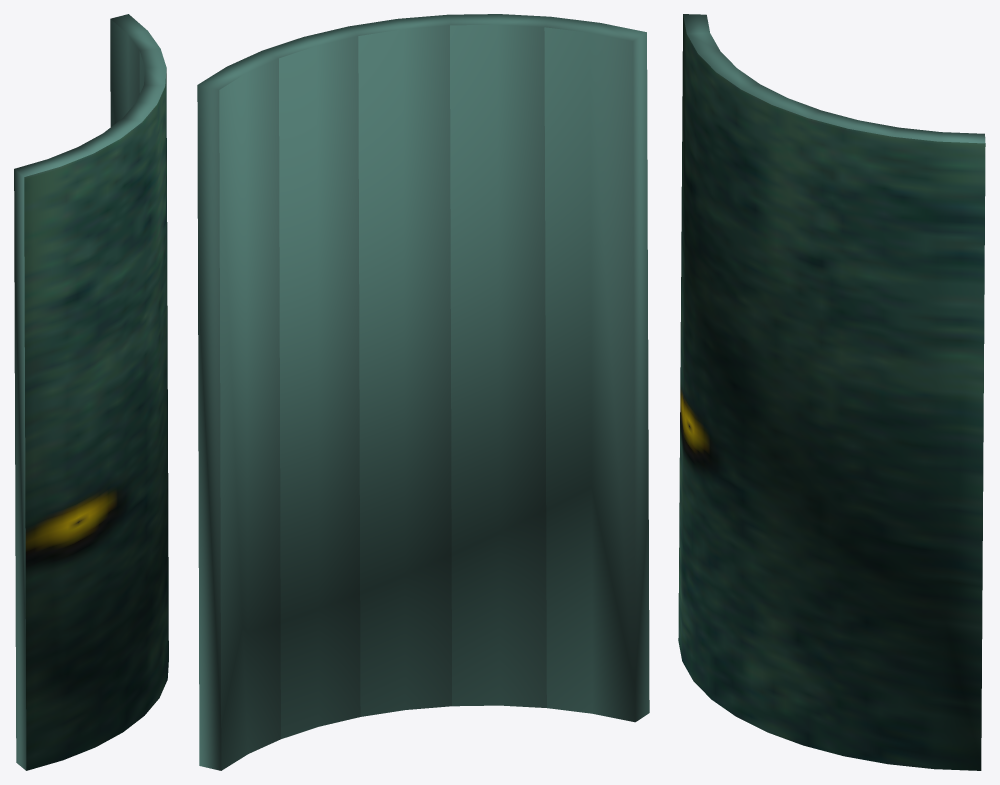
Rendered from ggfe.hrc.gltf.
The picture shows the model from 3 angles, left to right: view 1: azimuth 30°, elevation 25°; view 2: azimuth 150°, elevation 25°; view 3: azimuth 270°, elevation 25°; orthographic projection. The views are drawn at different scales.
Parts seen in each view (by area): view 1: ggfeBone0_null; view 2: ggfeBone0_null; view 3: ggfeBone0_null.
Part boxes in pixels (<box>): ggfeBone0_null: <box>14,14,168,770</box>; ggfeBone0_null: <box>197,14,649,770</box>; ggfeBone0_null: <box>678,14,985,770</box>.
Bounding box in the file's own units: 15.12 × 34.65 × 15.33.
Materials: 2 (1 with a texture image).
